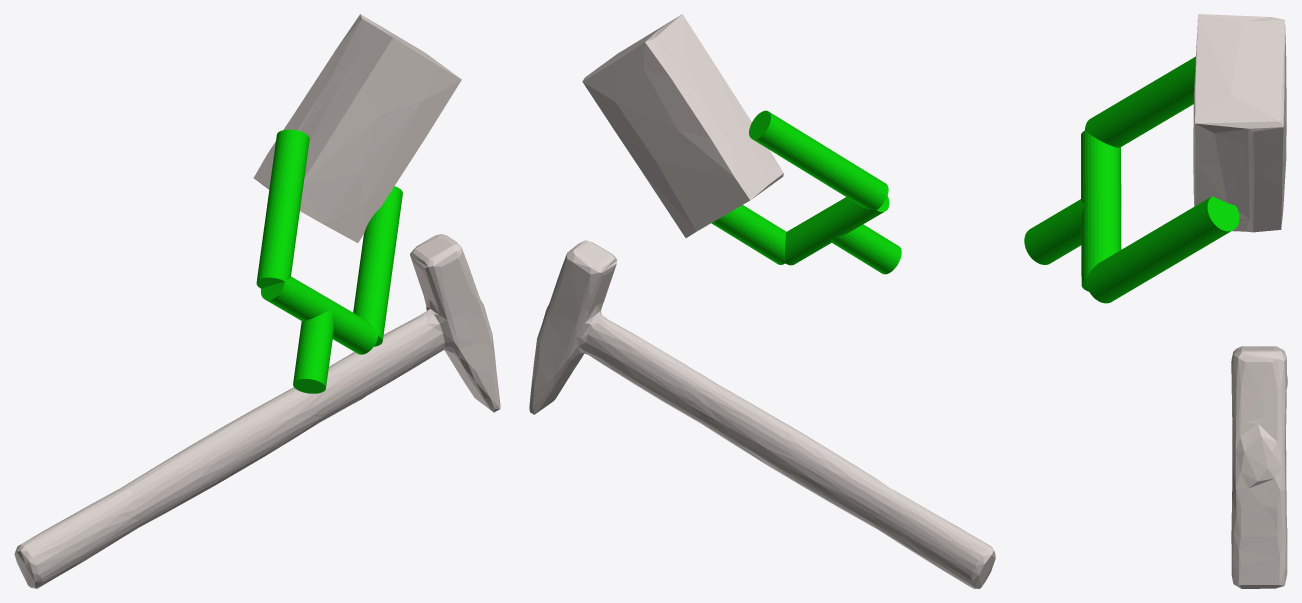
File: round_000_trial_003.obj
The picture shows the model from 3 angles, left to right: view 1: azimuth 30°, elevation 25°; view 2: azimuth 150°, elevation 25°; view 3: azimuth 270°, elevation 25°; orthographic projection. The views are drawn at different scales.
Parts seen in each view (by area): view 1: geometry_0, geometry_1; view 2: geometry_0, geometry_1; view 3: geometry_0, geometry_1.
Boxes of the visible parts, x1,y1,x2,y2 form: geometry_0: [14, 14, 500, 588]; geometry_1: [256, 129, 402, 393]; geometry_0: [529, 14, 995, 588]; geometry_1: [711, 110, 901, 274]; geometry_0: [1193, 14, 1287, 588]; geometry_1: [1024, 56, 1239, 303].
Size of the model in its own units: 0.1641 by 0.1628 by 0.0655.
